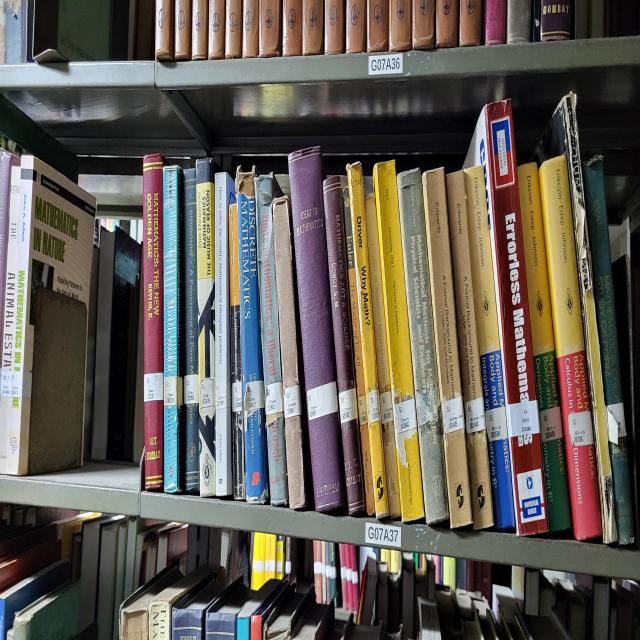Book: (536, 92, 618, 544), (466, 100, 548, 536), (539, 154, 601, 538), (289, 146, 345, 511), (518, 162, 571, 533), (398, 168, 449, 525), (374, 160, 424, 522), (465, 168, 515, 530), (422, 168, 472, 528), (446, 170, 494, 530), (348, 162, 389, 519), (324, 176, 365, 514), (365, 192, 401, 519), (235, 170, 269, 503), (255, 173, 289, 506), (342, 187, 375, 517), (272, 195, 306, 509), (162, 165, 184, 492), (196, 160, 216, 498), (144, 154, 164, 490), (215, 170, 235, 498), (182, 168, 200, 492), (229, 203, 245, 501)
Label: (506, 400, 540, 438), (306, 381, 338, 419), (568, 411, 594, 446), (442, 395, 464, 433), (540, 406, 562, 444), (485, 406, 508, 441), (394, 398, 416, 433), (339, 387, 358, 425), (465, 398, 485, 433), (244, 381, 264, 414), (265, 381, 282, 417), (284, 384, 301, 419), (144, 373, 164, 400), (164, 376, 182, 406), (184, 373, 199, 406), (366, 390, 380, 425), (380, 392, 394, 425), (200, 379, 214, 409), (231, 381, 242, 411), (358, 395, 368, 425)
